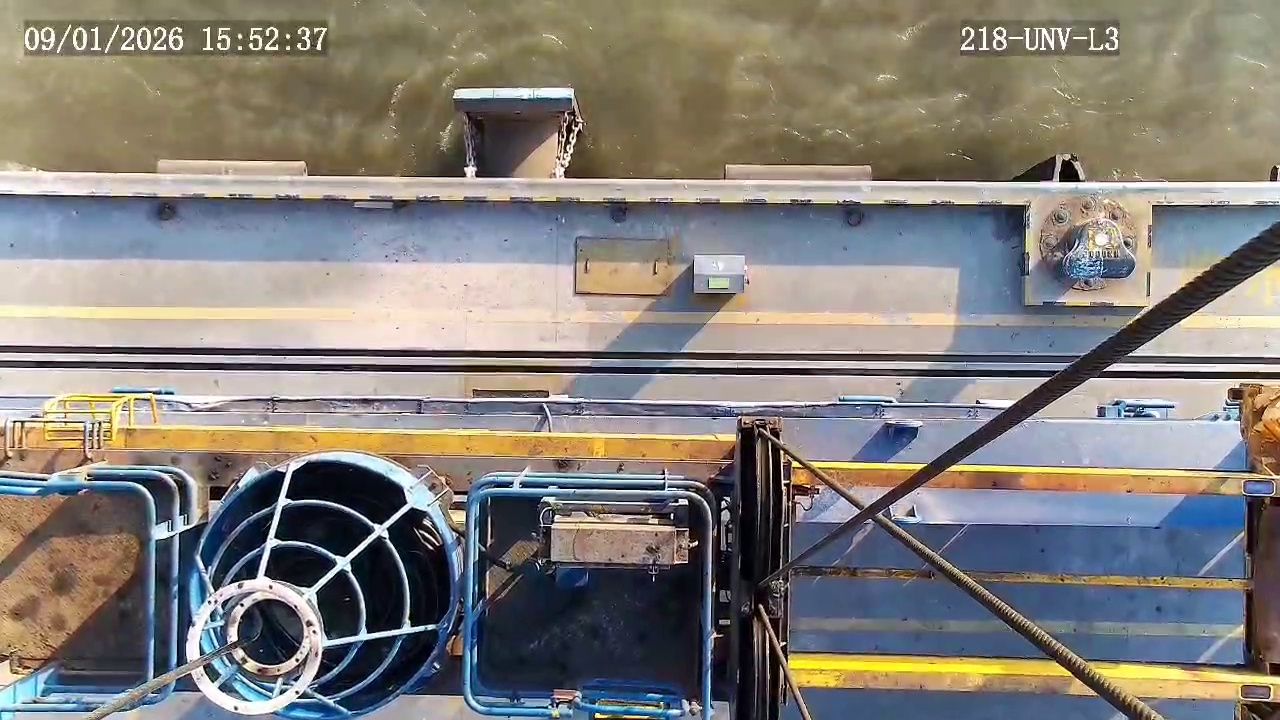right: (189, 458, 455, 720)
